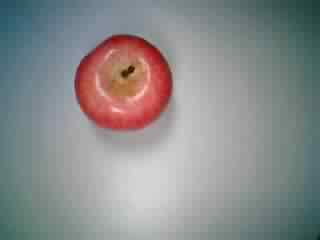apple: (71, 32, 176, 134)
